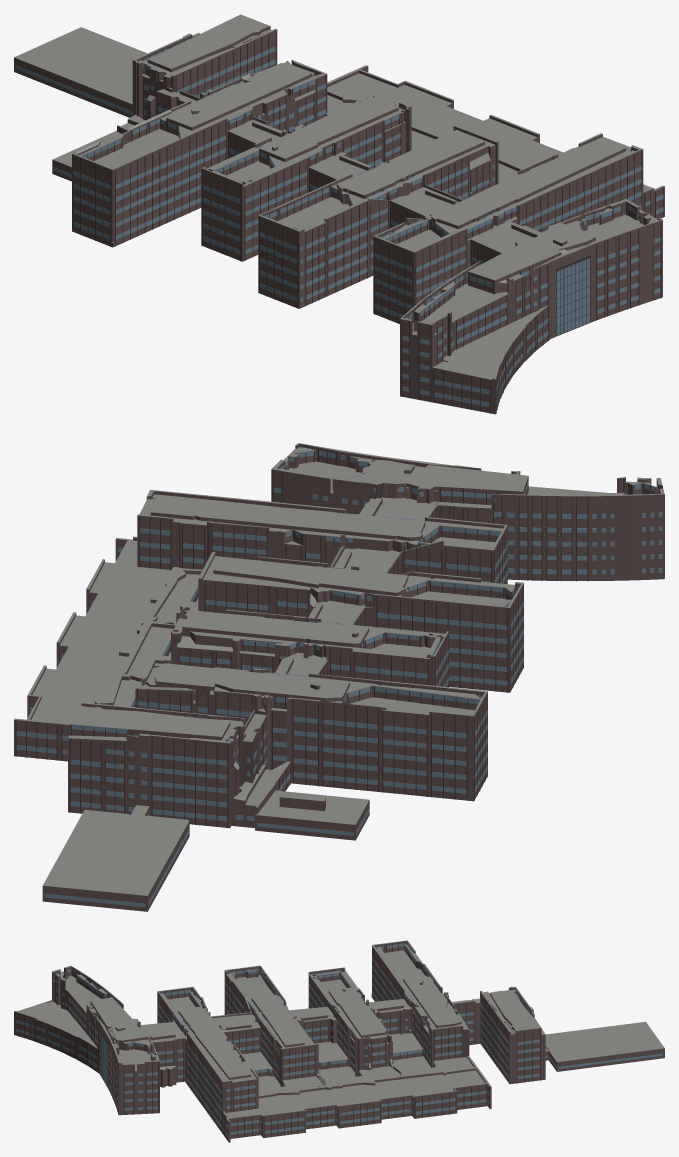
Rendered from shell-technology-centre.glb.
The picture shows the model from 3 angles, top to bottom: view 1: azimuth 30°, elevation 25°; view 2: azimuth 150°, elevation 25°; view 3: azimuth 270°, elevation 25°; orthographic projection. The views are drawn at different scales.
Parts seen in each view (by area): view 1: shell-technology-centre; view 2: shell-technology-centre; view 3: shell-technology-centre.
Part boxes in pixels (bbox=[...]): shell-technology-centre: bbox=[14, 14, 664, 414]; shell-technology-centre: bbox=[14, 443, 664, 911]; shell-technology-centre: bbox=[14, 940, 664, 1142].
Size of the model in its own units: 179 by 30.28 by 327.
